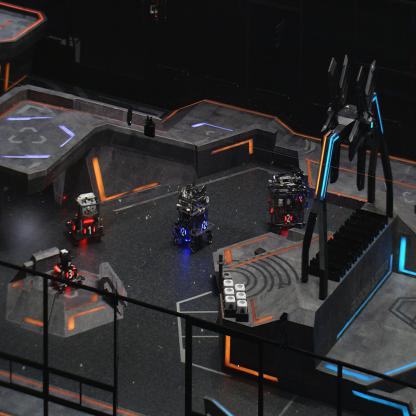car: (171, 181, 214, 254), (266, 172, 306, 233), (66, 190, 104, 247), (48, 248, 84, 294), (285, 166, 310, 206)
